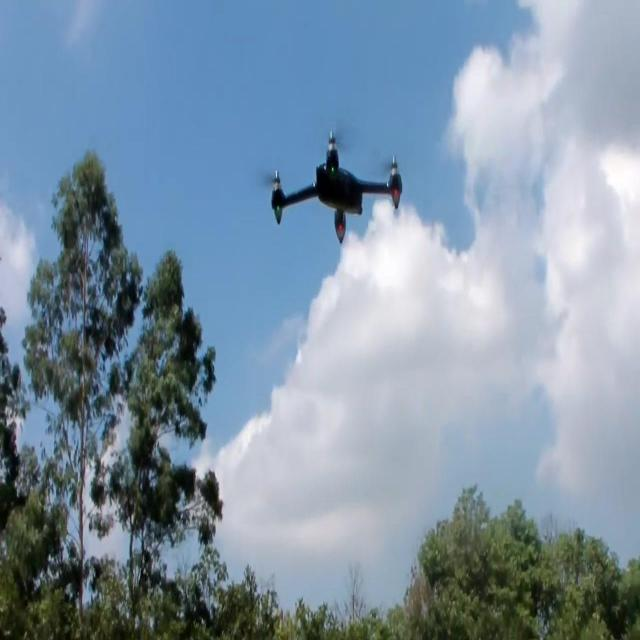drone: (270, 127, 404, 248)
